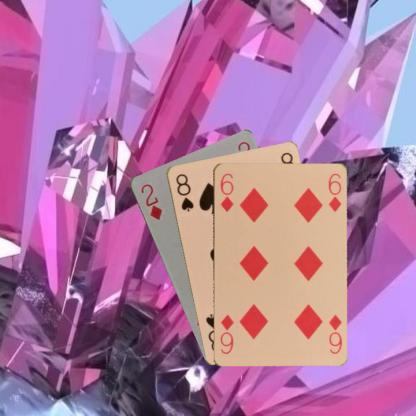2d: (138, 181, 164, 221)
6d: (218, 171, 234, 214), (326, 312, 342, 355)
8s: (172, 171, 194, 213)
